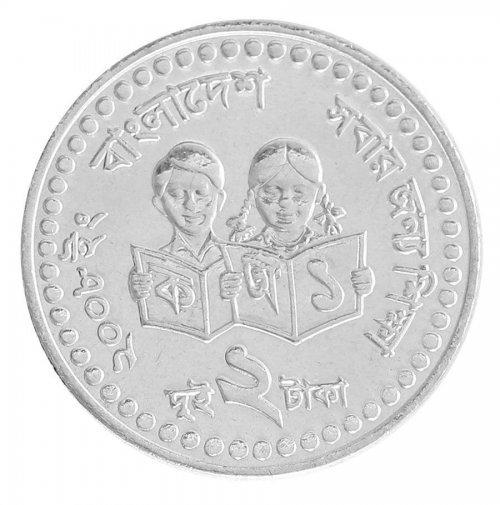5 taka coin: (18, 20, 482, 477)
